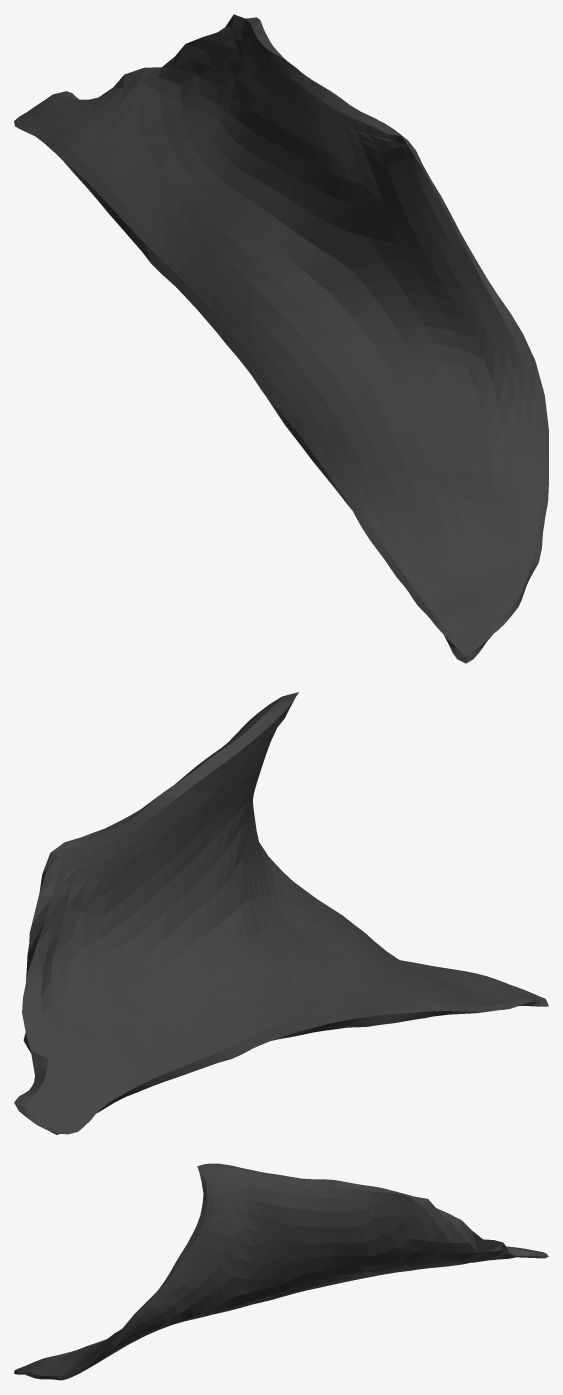
File: IAO.glb
The picture shows the model from 3 angles, top to bottom: view 1: azimuth 30°, elevation 25°; view 2: azimuth 150°, elevation 25°; view 3: azimuth 270°, elevation 25°; orthographic projection. The views are drawn at different scales.
Visible parts, largest first — view 1: IAO; view 2: IAO; view 3: IAO.
Part boxes in pixels (x1,y1,x2,y2): IAO: [14, 14, 548, 663]; IAO: [14, 692, 548, 1134]; IAO: [14, 1163, 548, 1380].
Bounding box in the file's own units: 0.3838 × 0.8073 × 1.7.
1 material, 1 textured.
